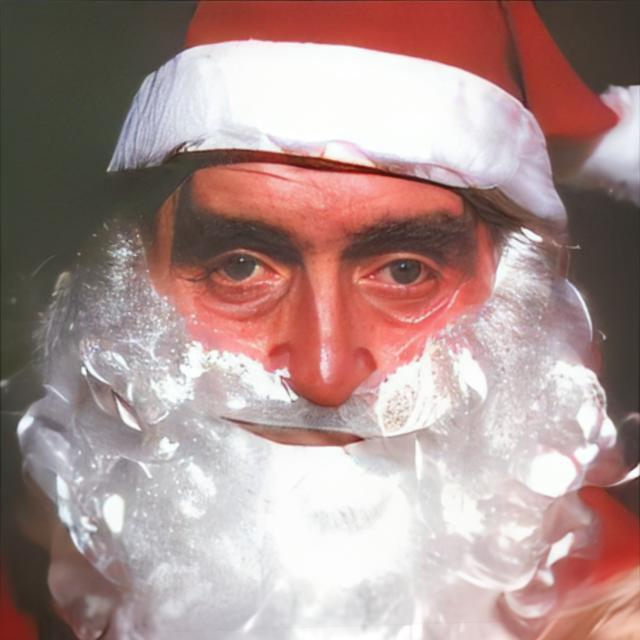neutral: (144, 150, 501, 510)
